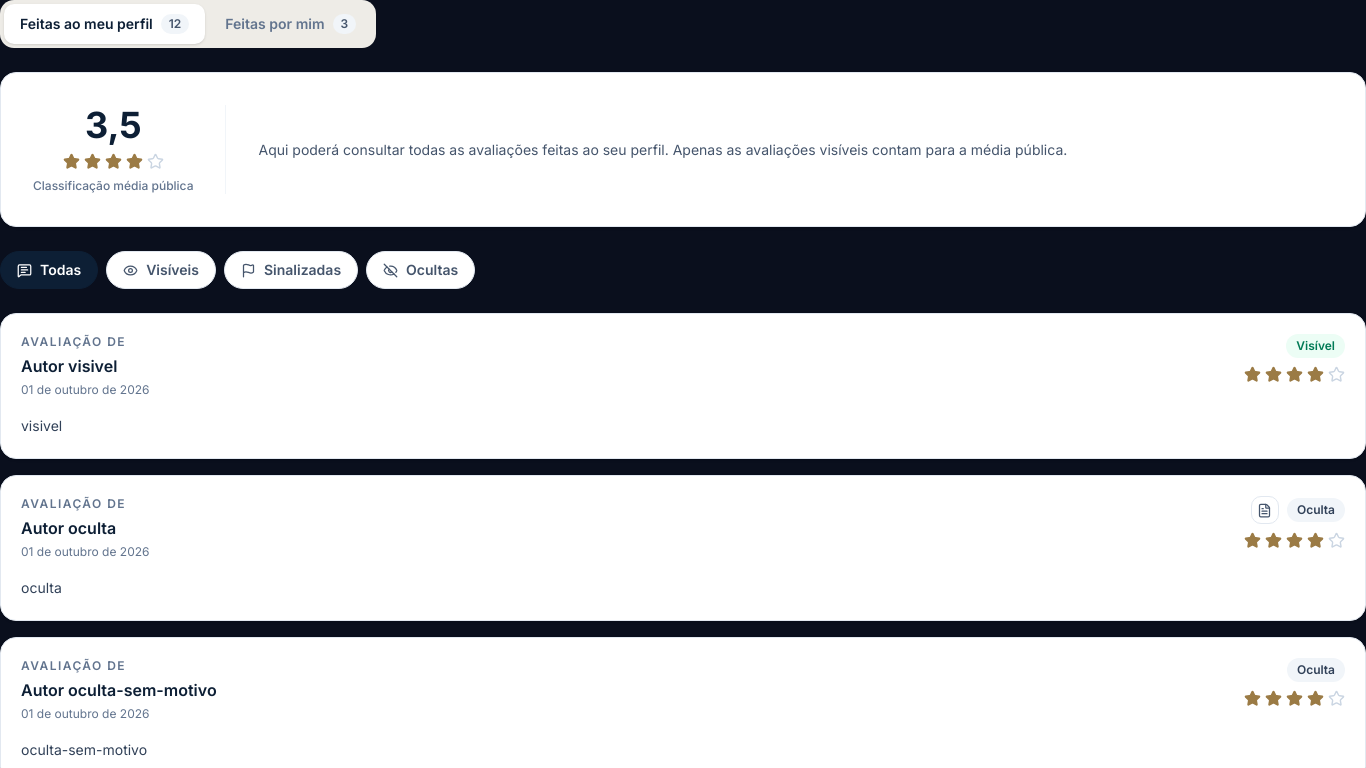
it: As minhas avaliações › o botão também aparece no separador das avaliações feitas por mim
The width and height of the screenshot is (1366, 768).
Click the tab "Feitas por mim 3": click(291, 24) [209,4,372,44]
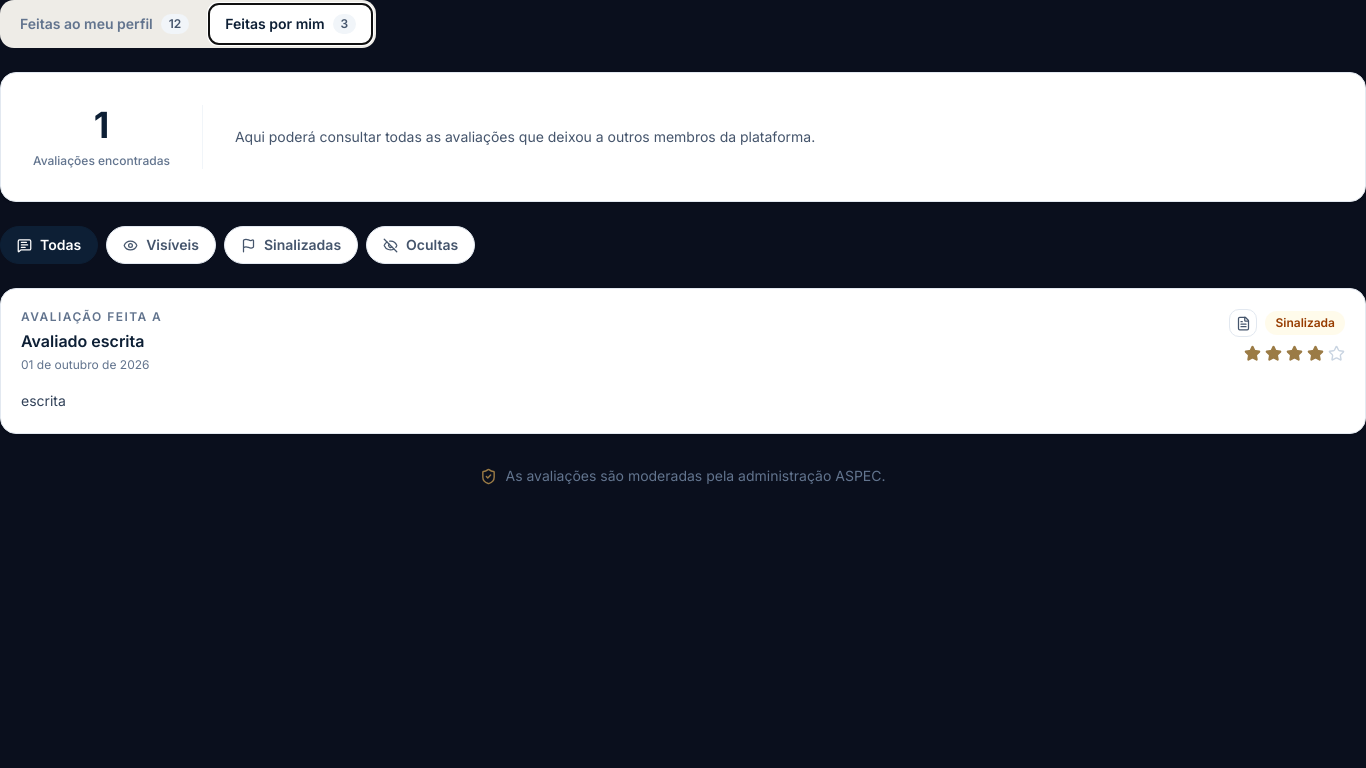
expect the text "escrita" is shown: met, box [21,392,66,409]
Click the button named "Ver motivo": click(1244, 323) [1230,309,1258,337]
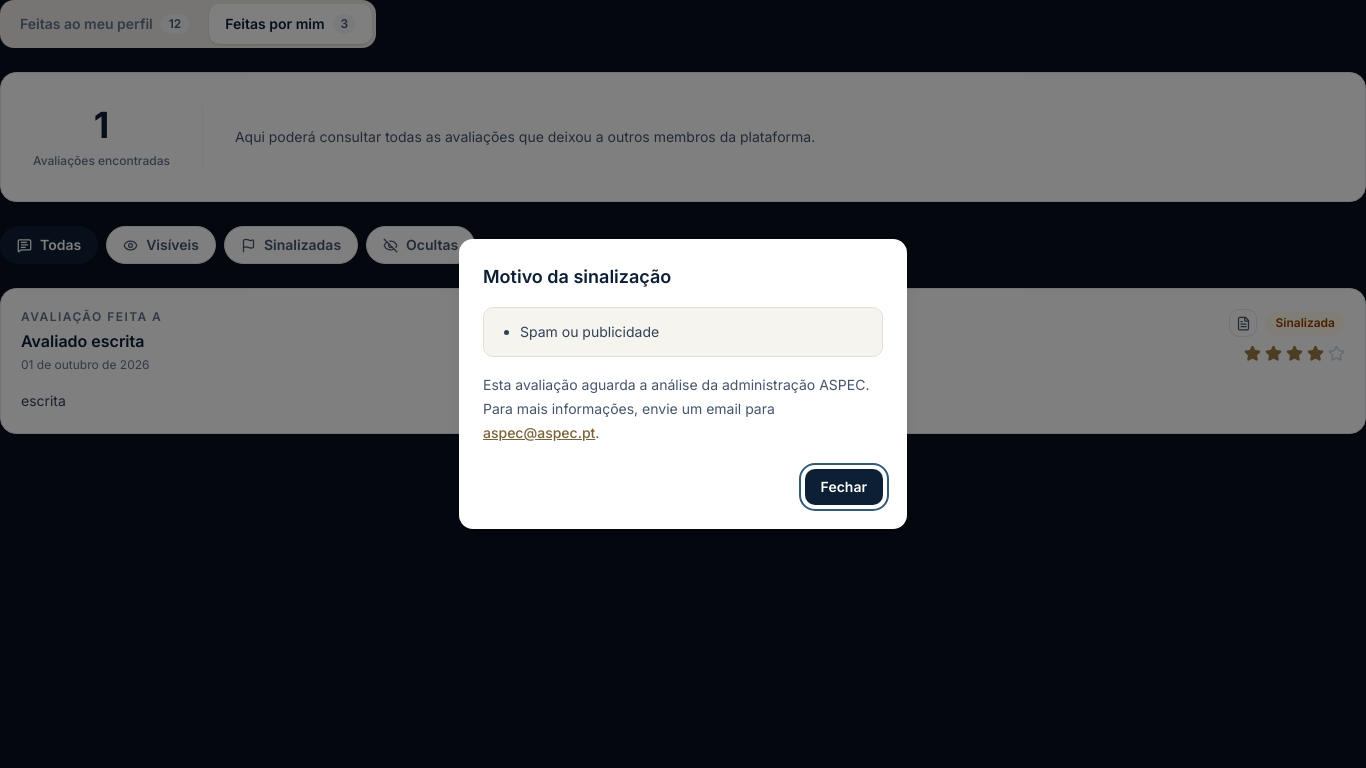
expect the list item "Spam ou publicidade" is shown: met, box [520,323,659,340]
